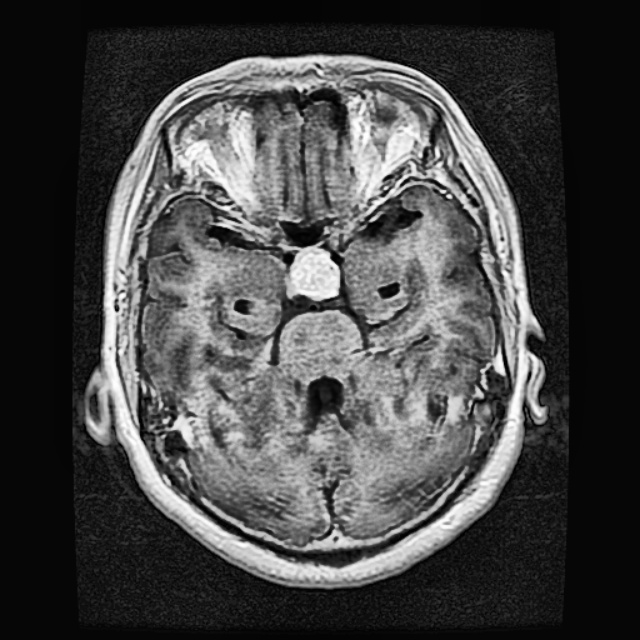Pituitary: (292, 247, 339, 297)
